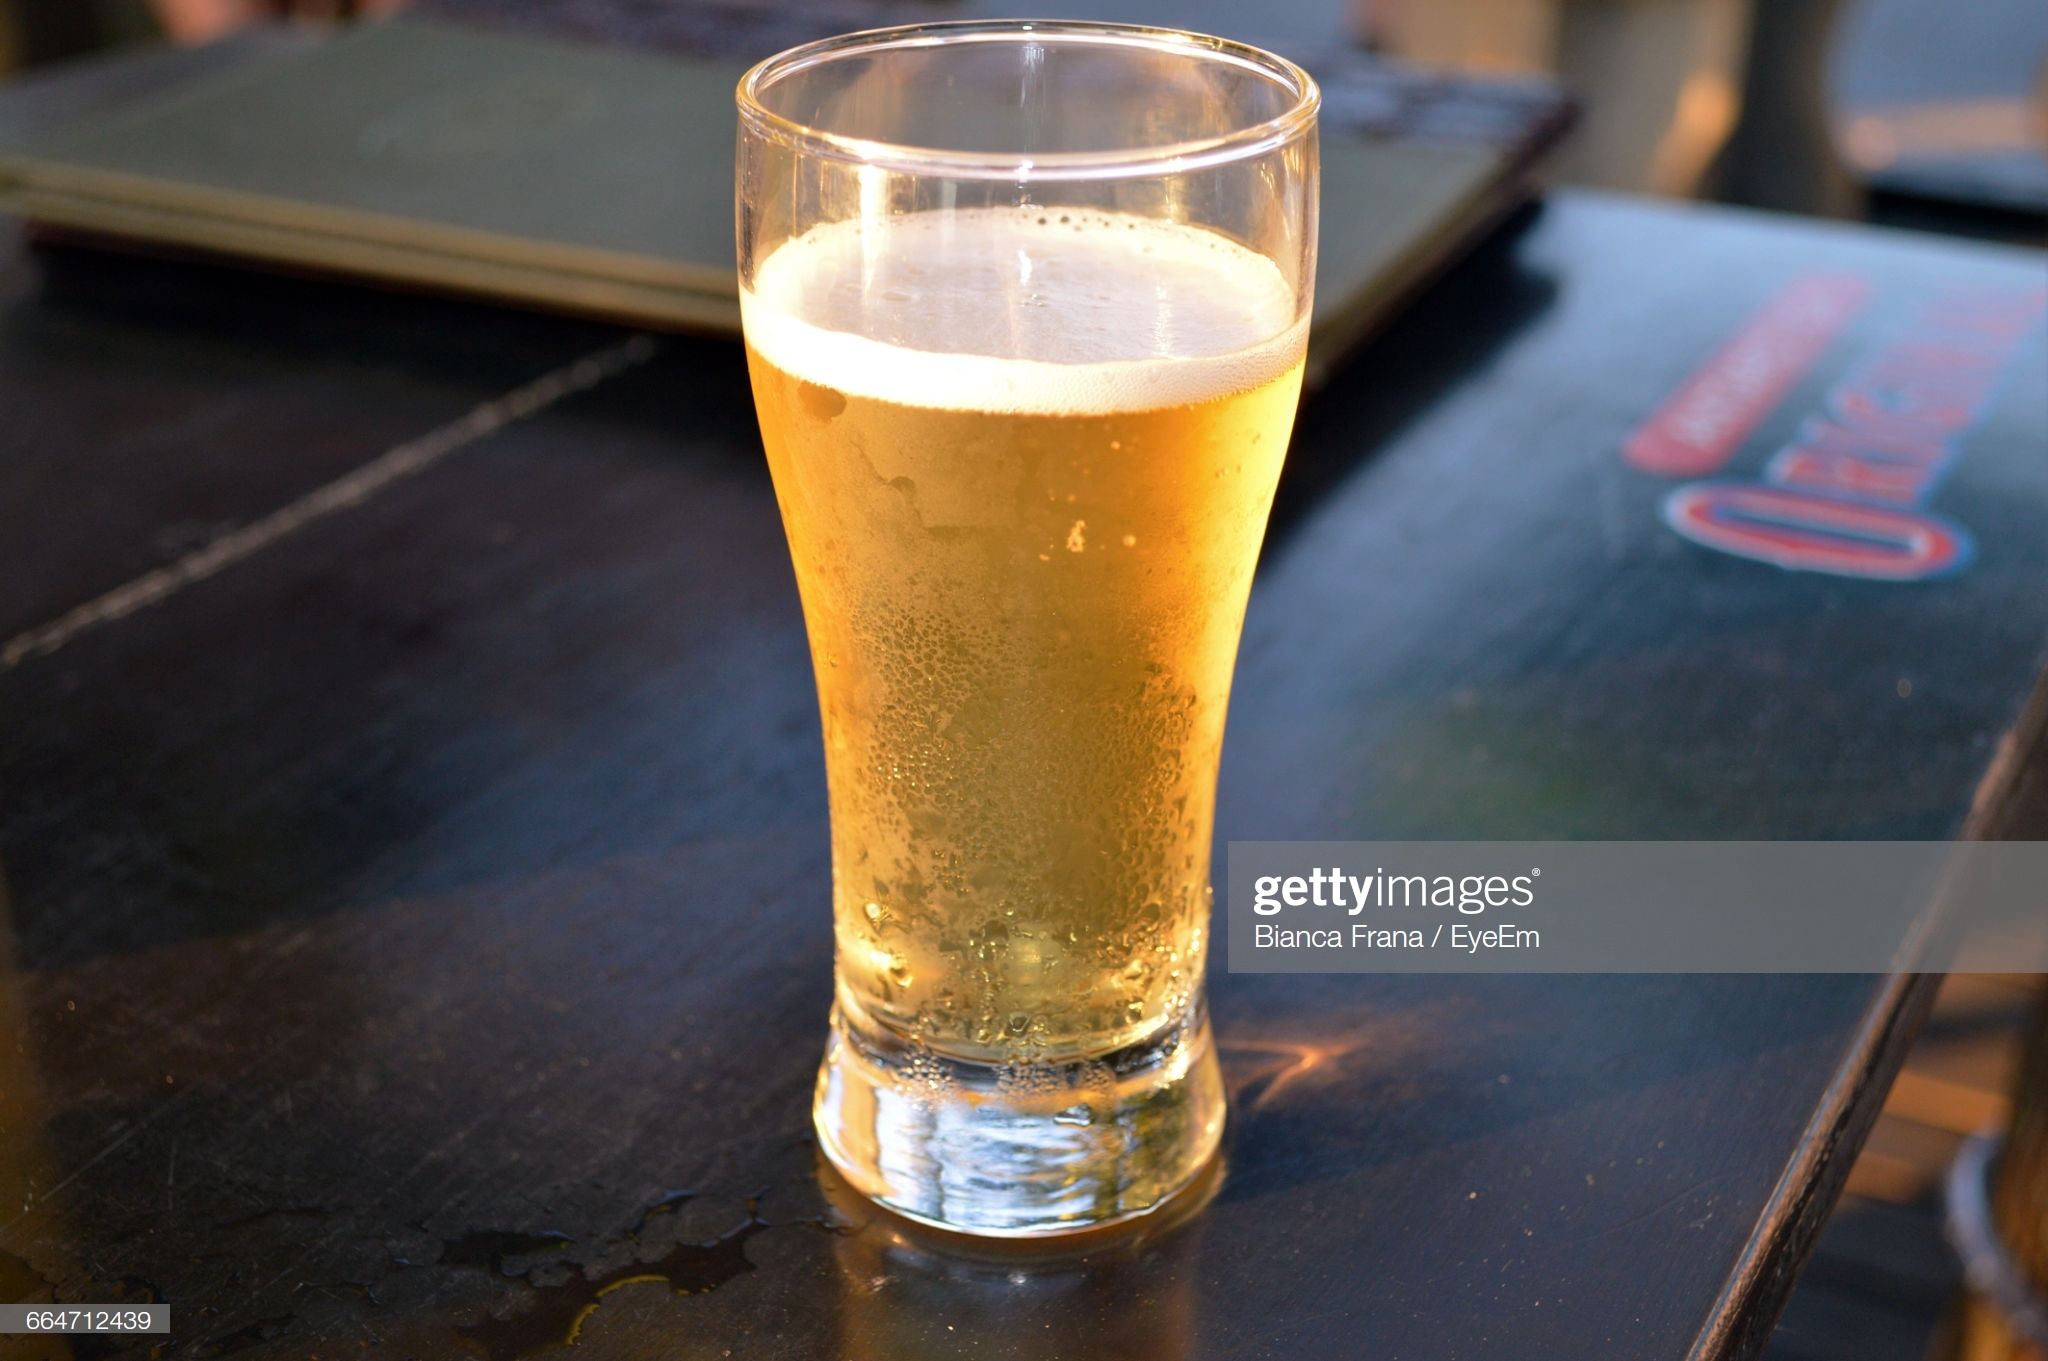glassBeer: (745, 38, 1333, 1198)
